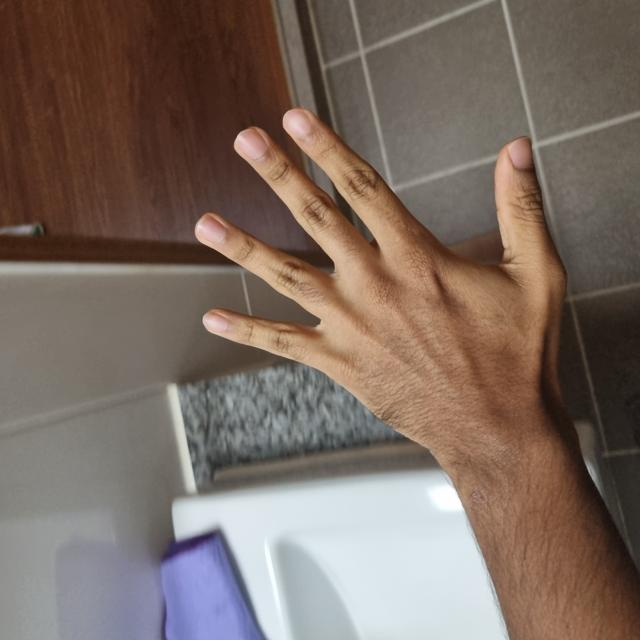Paper: (168, 201, 527, 559)
